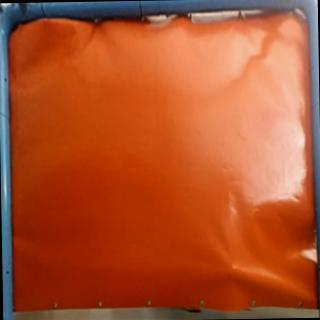Hit-hRxx: (225, 258, 240, 274)
